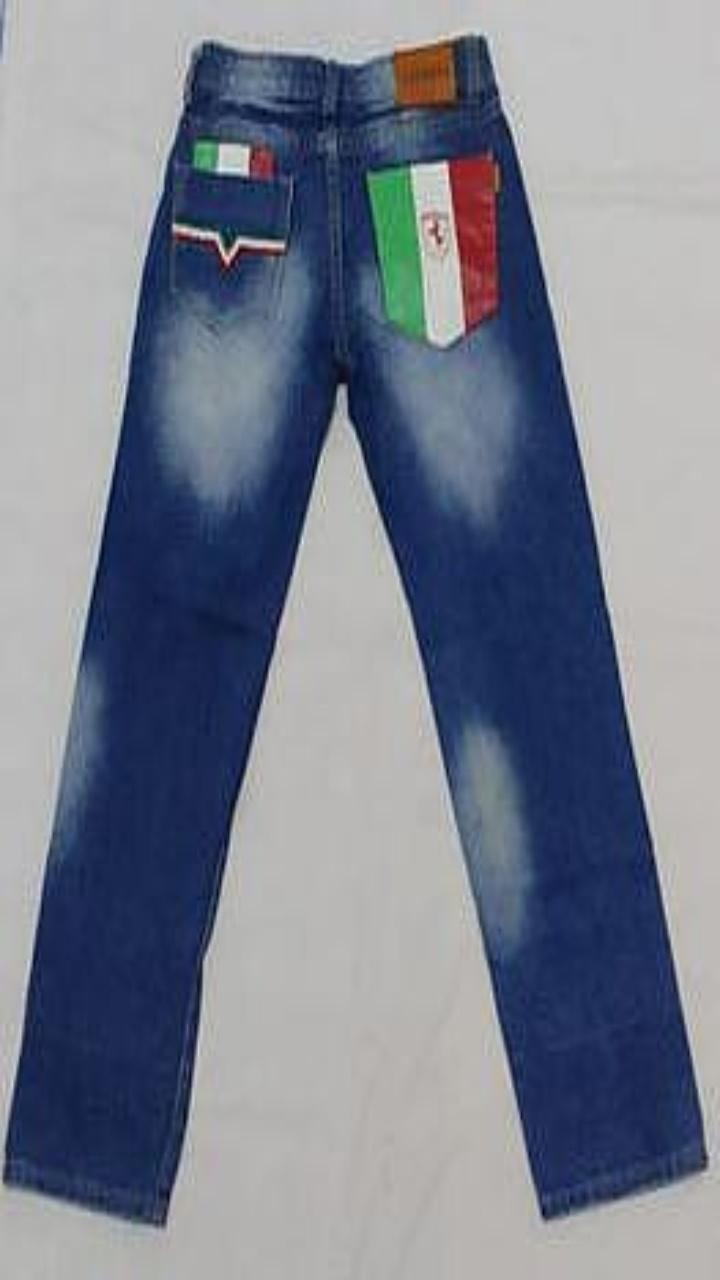Jeans: (4, 35, 706, 1222)
